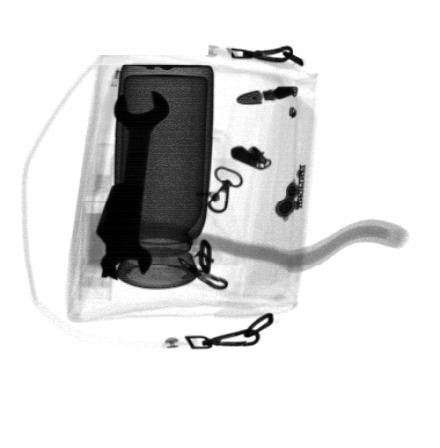Hammer: (93, 182, 396, 283)
Wrench: (97, 89, 172, 281)
